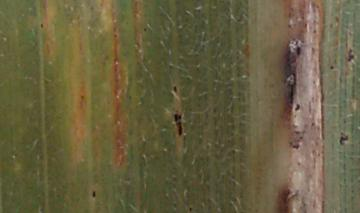tarspot: (169, 110, 189, 141), (343, 44, 357, 66), (337, 127, 351, 148), (86, 188, 100, 201), (291, 99, 301, 113), (326, 62, 337, 72), (311, 25, 319, 38), (36, 20, 46, 30), (186, 203, 196, 213), (171, 83, 179, 94)
